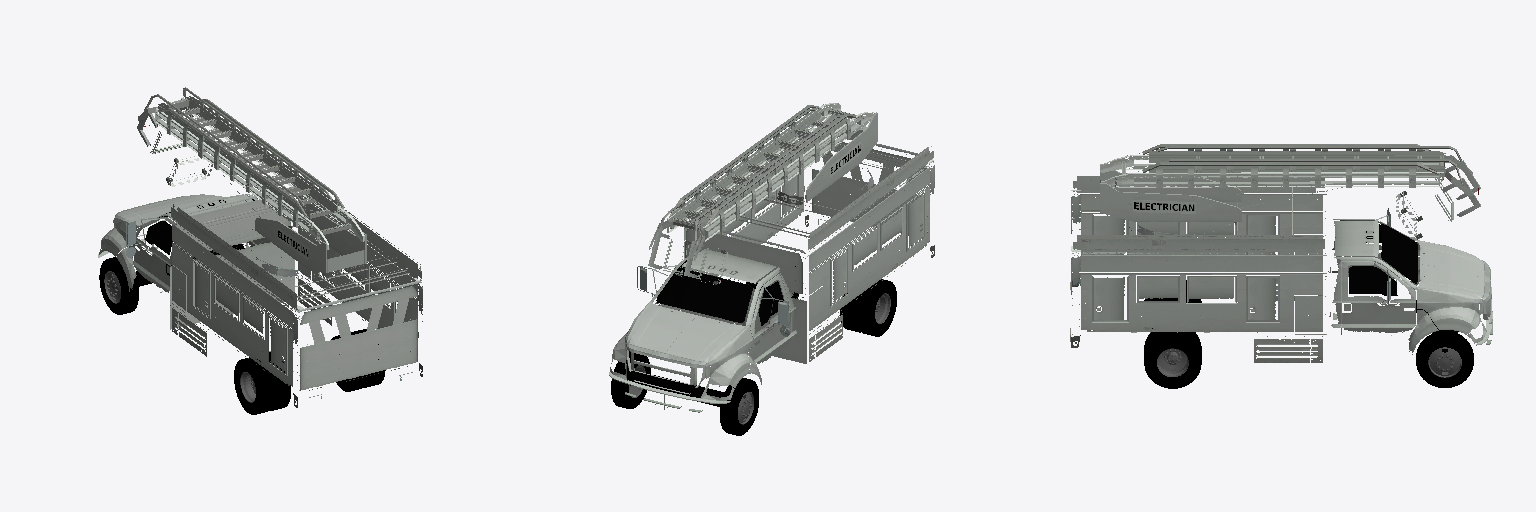
3 renders of one model, left to right at view 1: azimuth 30°, elevation 25°; view 2: azimuth 150°, elevation 25°; view 3: azimuth 270°, elevation 25°, orthographic.
Visible parts, largest first — view 1: rear_steel.003, rear_steel.005, rear_steel.001, rear_steel.004; view 2: rear_steel.003, rear_steel.005, rear_steel.001, rear_steel.004, rear_steel.002; view 3: rear_steel.003, rear_steel.005, rear_steel.001, rear_steel.002.
Part boxes in pixels (bbox=[...]): rear_steel.003: bbox=[98, 187, 422, 414]; rear_steel.005: bbox=[137, 87, 364, 249]; rear_steel.001: bbox=[255, 209, 366, 272]; rear_steel.004: bbox=[99, 257, 138, 314]; rear_steel.003: bbox=[609, 128, 934, 412]; rear_steel.005: bbox=[648, 103, 874, 284]; rear_steel.001: bbox=[772, 103, 877, 201]; rear_steel.004: bbox=[720, 378, 758, 435]; rear_steel.002: bbox=[611, 351, 650, 408]; rear_steel.003: bbox=[1070, 176, 1492, 388]; rear_steel.005: bbox=[1100, 144, 1480, 239]; rear_steel.001: bbox=[1100, 164, 1241, 221]; rear_steel.002: bbox=[1416, 331, 1473, 387].
Size of the model in its own units: 12.18 by 15.74 by 29.42.
Materials: 5 (1 with a texture image).